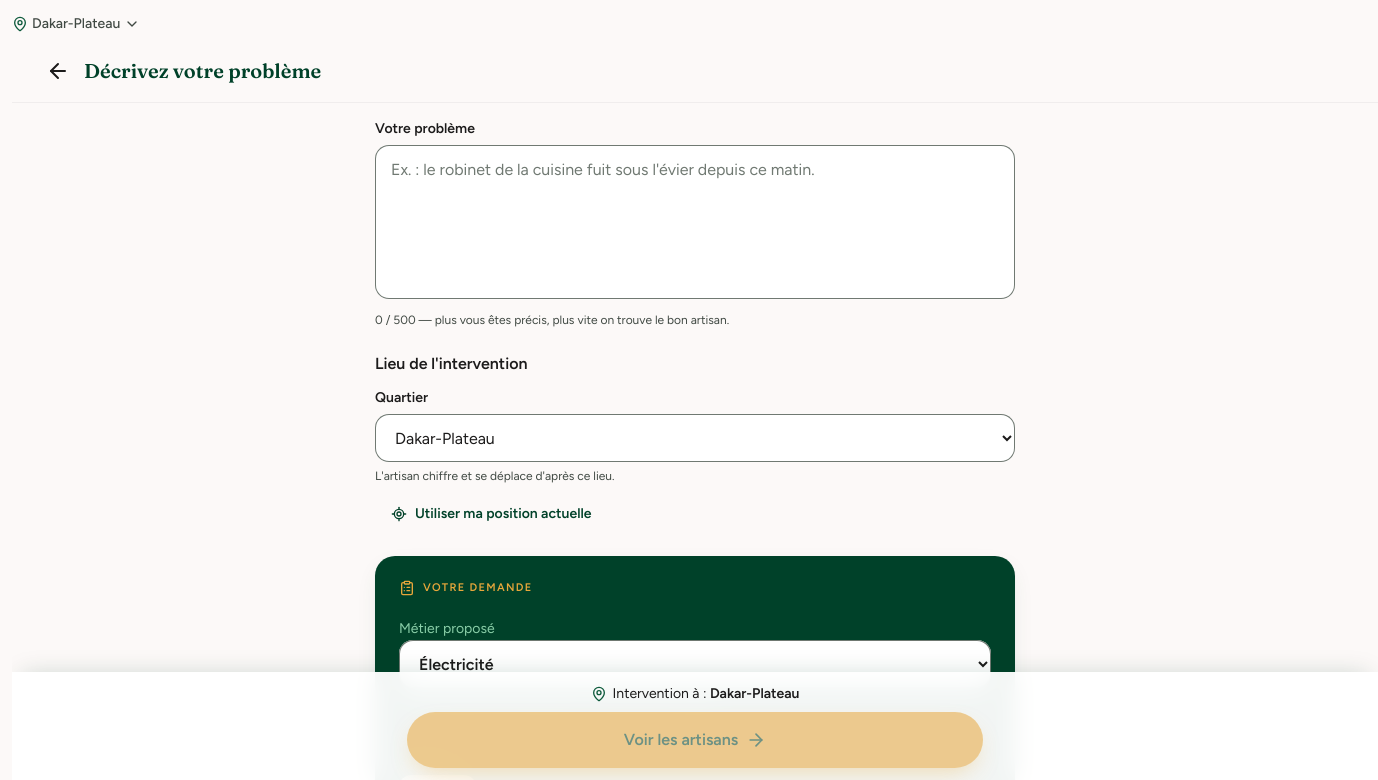
it: DescribeProblemScreen › creates a service request with the AI-detected trade code and lands on a server-filtered search
Replace the text in the text box labelled "Votre problème" with "Une prise ne fonctionne plus dans le salon.". click: x=695, y=222
box: 375,145 -> 1015,299
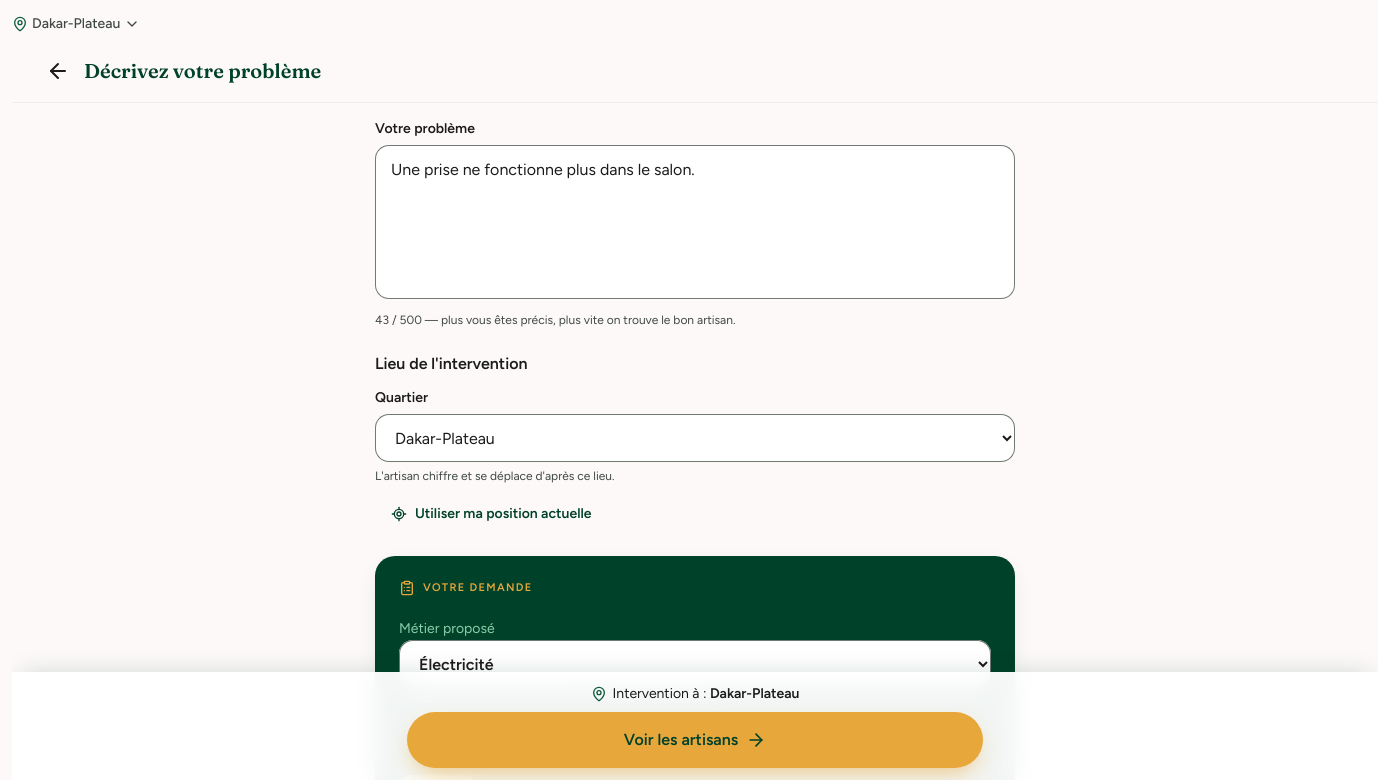
Click the button "Voir les artisans". click: x=695, y=740
box: 407,712 -> 983,768
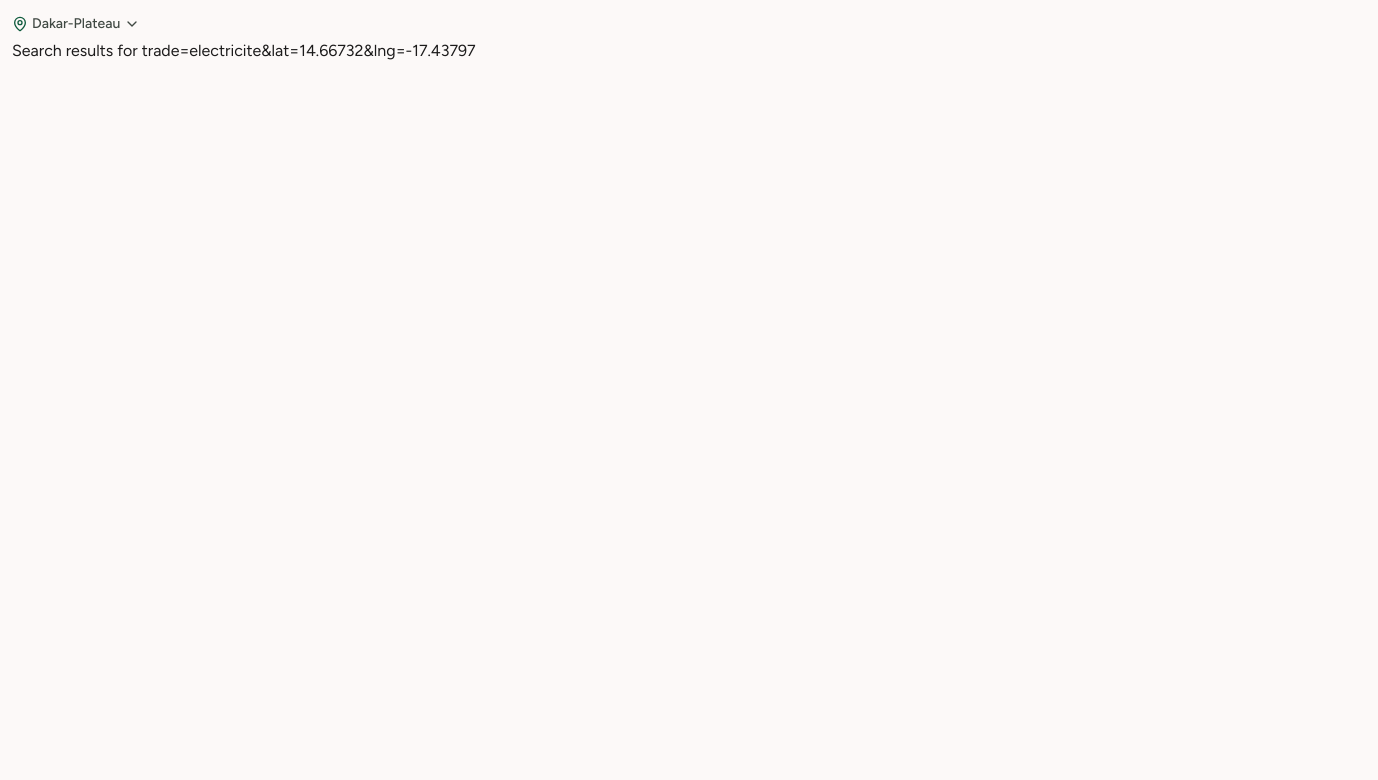
Result: the text "Search results for" shows "trade=electricite" at 142,41 -> 476,60
